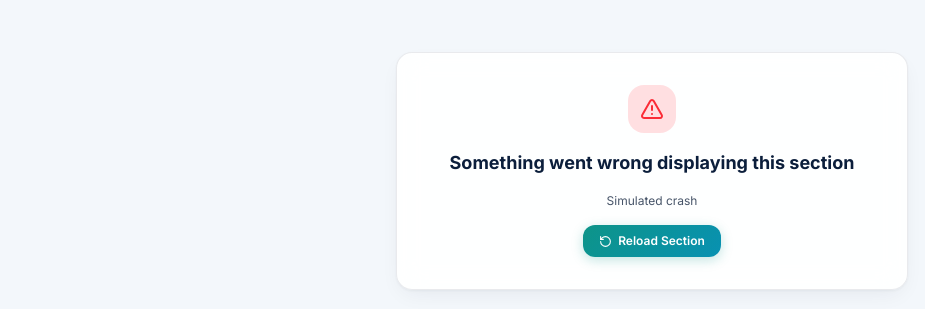
Test case: React Components & Accessibility Tests › ErrorBoundary catches child rendering crash and resets cleanly
The width and height of the screenshot is (925, 309).
Expected: the heading "Something went wrong displaying this section" is shown, left=429, top=149, right=875, bottom=177
Click the button "Reload Section" at (652, 241), box left=583, top=225, right=721, bottom=257
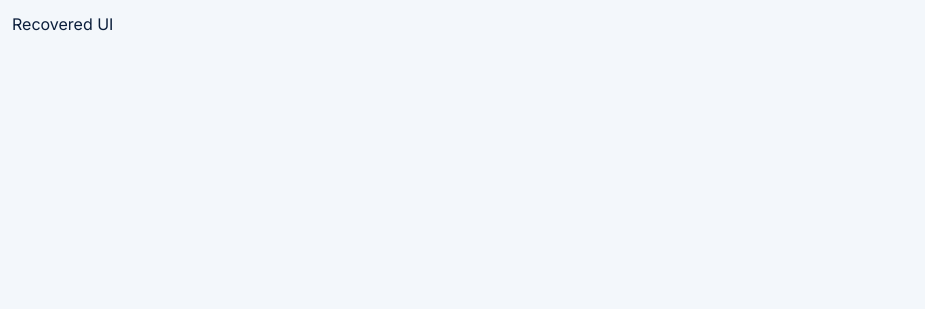
Now the text "Recovered UI" is shown, box left=12, top=14, right=113, bottom=34
